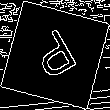P_SE: (26, 24, 84, 86)
